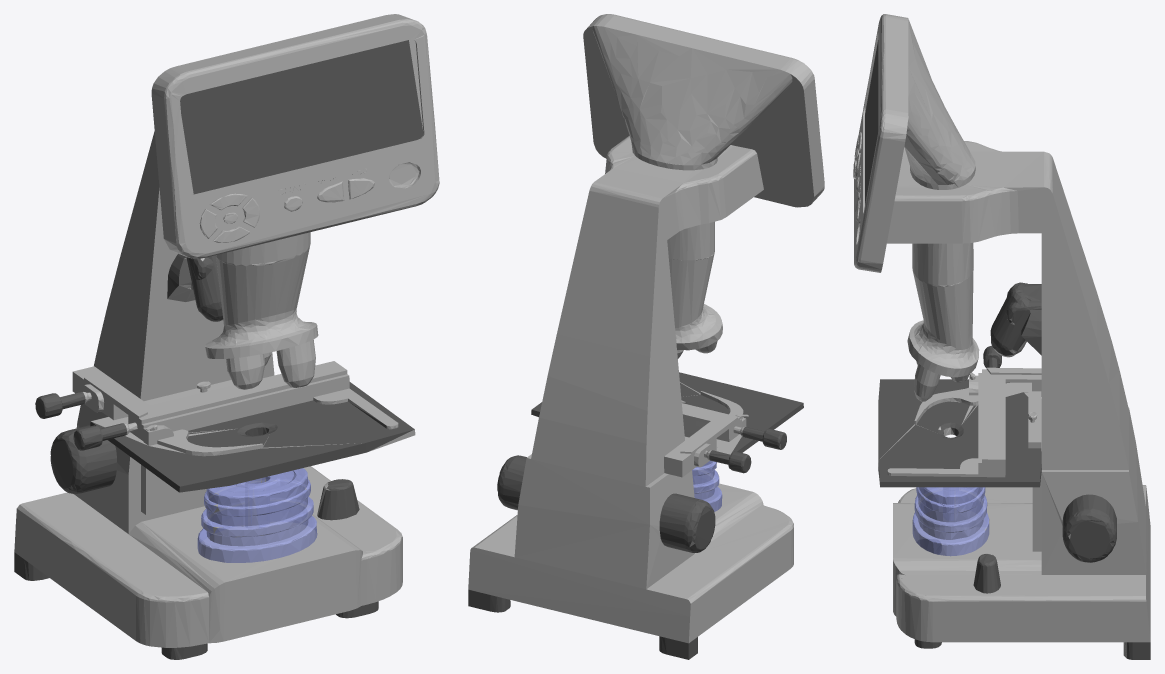
File: microcopio.glb
The picture shows the model from 3 angles, left to right: view 1: azimuth 30°, elevation 25°; view 2: azimuth 150°, elevation 25°; view 3: azimuth 270°, elevation 25°; orthographic projection. The views are drawn at different scales.
Parts seen in each view (by area): view 1: microcopio; view 2: microcopio; view 3: microcopio.
Boxes of the visible parts, bbox=[...] form: microcopio: bbox=[14, 14, 439, 659]; microcopio: bbox=[468, 14, 824, 659]; microcopio: bbox=[853, 14, 1150, 659].
Bounding box in the file's own units: 5.2 × 10.4 × 5.2.
